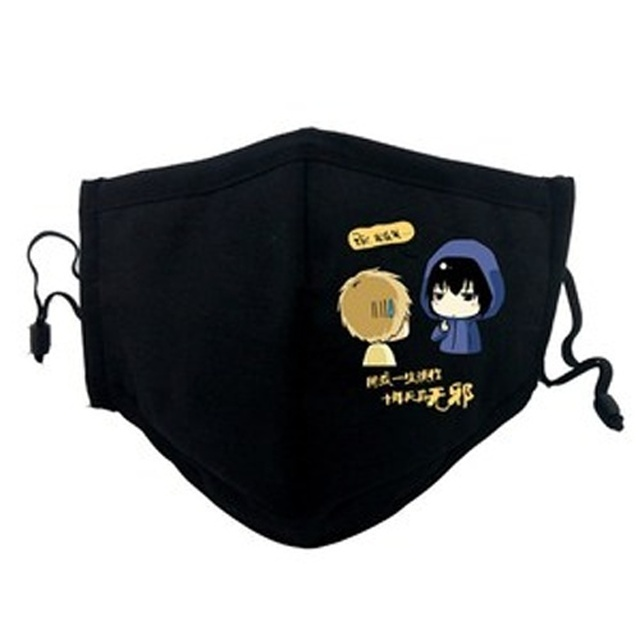mask: (20, 125, 631, 549)
